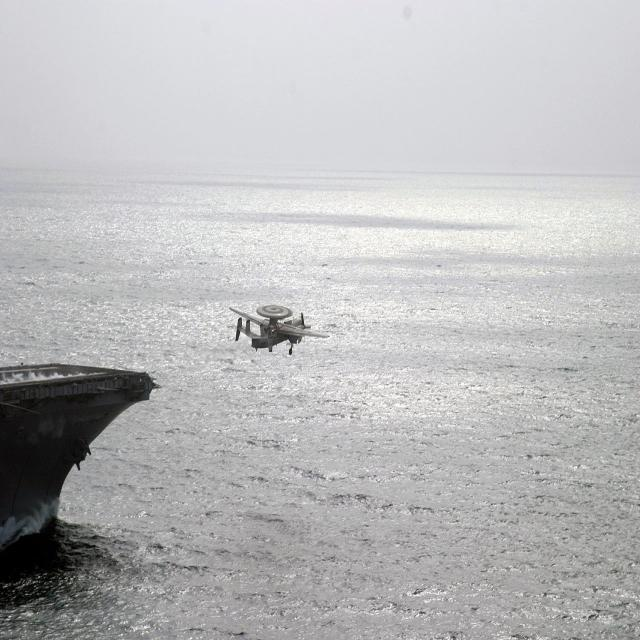MIL_Plane: (228, 307, 329, 352)
